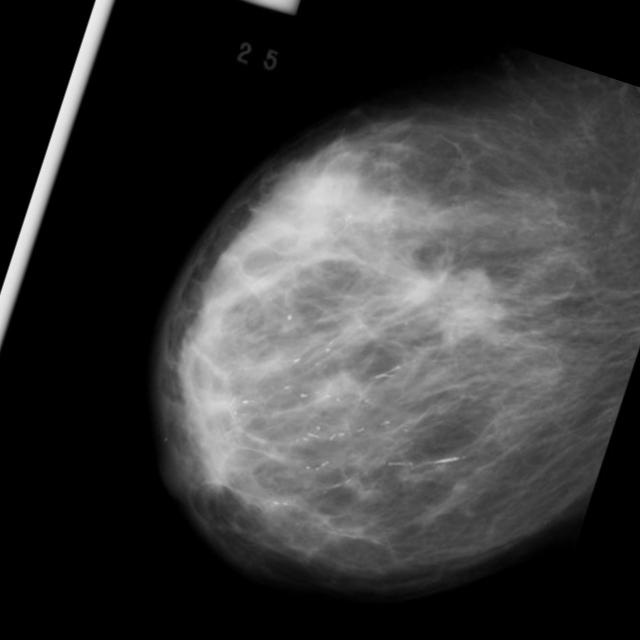SPIC: (312, 162, 586, 436)
